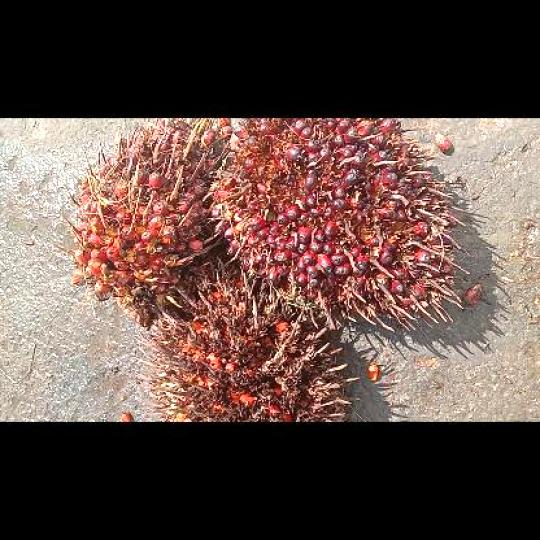masak: (203, 118, 469, 329), (56, 118, 224, 326)
terlalu masak: (134, 265, 360, 420)
